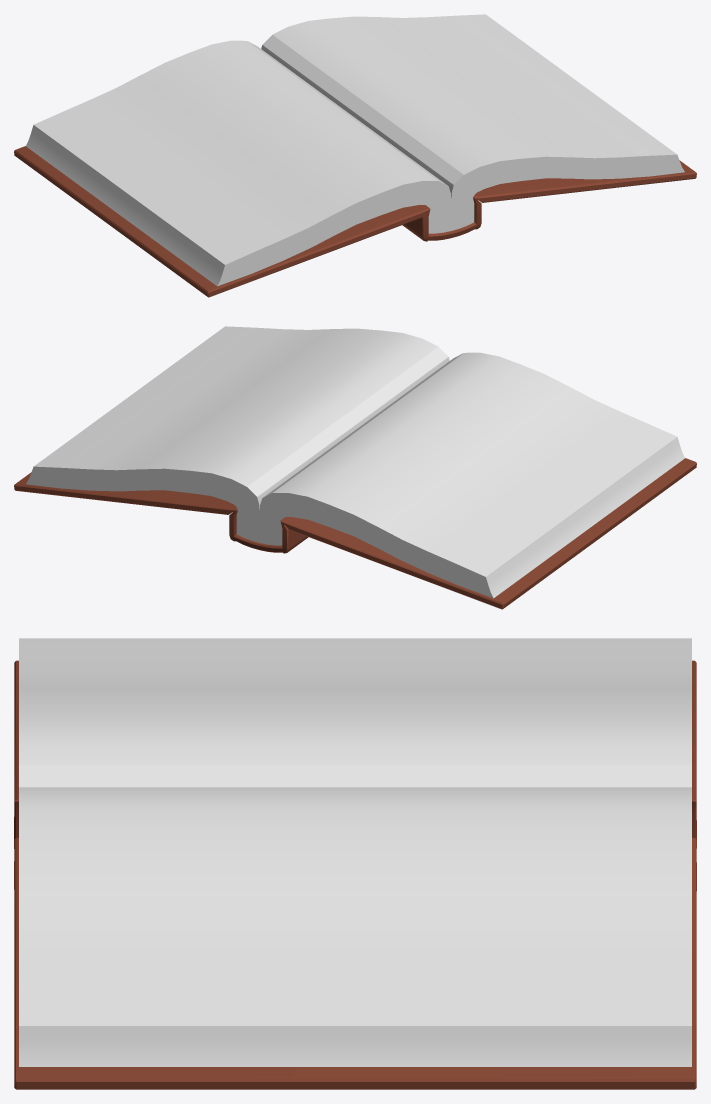
The model's file is Book.fbx.
The picture shows the model from 3 angles, top to bottom: view 1: azimuth 30°, elevation 25°; view 2: azimuth 150°, elevation 25°; view 3: azimuth 270°, elevation 25°; orthographic projection. The views are drawn at different scales.
Visible parts, largest first — view 1: book content, book cover and side; view 2: book content, book cover and side; view 3: book content, book cover and side.
Part boxes in pixels (bbox=[...]): book content: bbox=[34, 14, 676, 264]; book cover and side: bbox=[14, 125, 696, 297]; book content: bbox=[34, 326, 676, 576]; book cover and side: bbox=[14, 437, 696, 609]; book content: bbox=[19, 638, 691, 1025]; book cover and side: bbox=[14, 660, 696, 1089].
Bounding box in the file's own units: 125 × 16.11 × 86.17.
